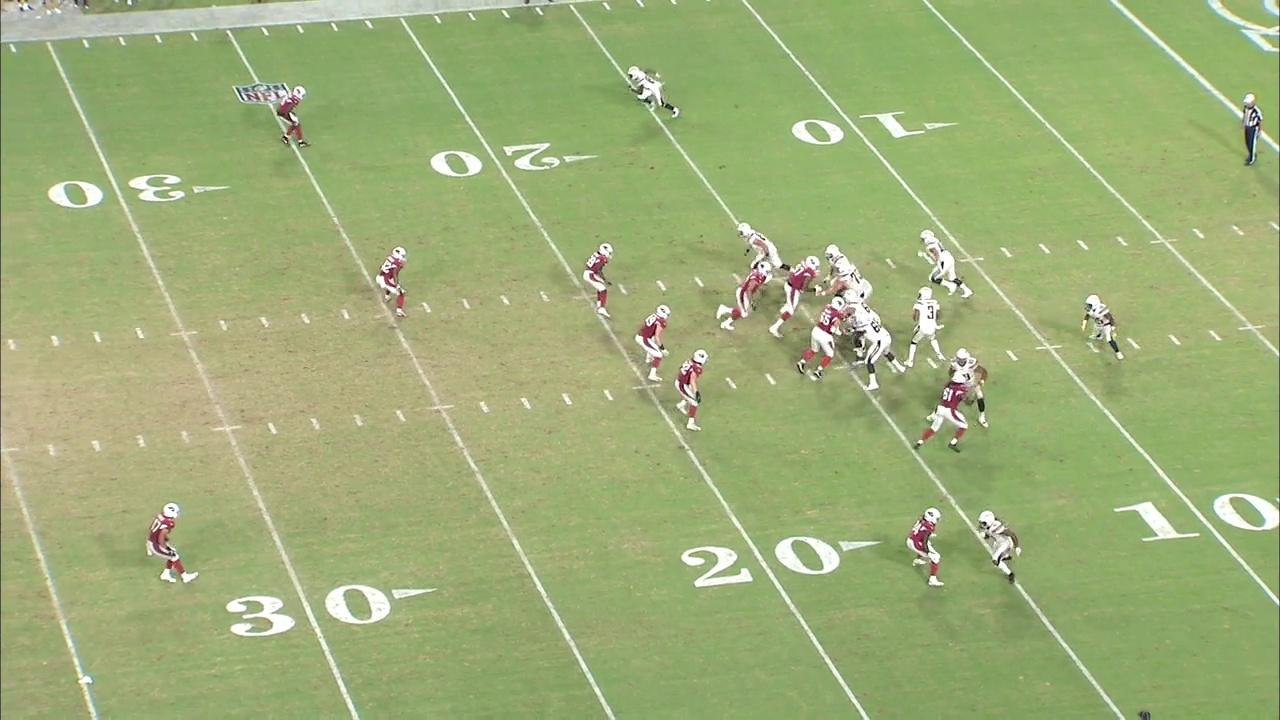five_hash: (1237, 322, 1267, 333), (168, 329, 201, 338), (211, 424, 243, 433), (426, 403, 457, 412), (1150, 237, 1181, 245), (1032, 344, 1064, 351), (958, 255, 986, 263)
hash: (261, 418, 284, 442), (1205, 325, 1224, 346), (475, 399, 495, 418), (721, 373, 740, 393), (307, 415, 326, 434), (1003, 346, 1022, 365), (690, 272, 708, 292), (88, 437, 106, 457), (1124, 334, 1142, 354), (43, 440, 60, 461), (456, 295, 474, 314), (924, 355, 943, 373), (177, 427, 194, 447), (1036, 241, 1054, 259), (1191, 226, 1209, 244), (392, 408, 410, 426), (559, 391, 577, 409), (600, 387, 618, 405), (762, 370, 780, 388), (255, 314, 274, 331), (296, 309, 315, 326), (417, 299, 436, 316), (1228, 222, 1247, 239), (89, 329, 106, 347), (132, 326, 150, 343), (496, 292, 513, 310), (882, 255, 899, 273), (998, 243, 1015, 261), (349, 413, 366, 431), (1166, 330, 1183, 348), (518, 395, 535, 412), (133, 433, 149, 451), (1074, 238, 1093, 253), (48, 334, 64, 351), (536, 288, 553, 304), (338, 307, 354, 323), (615, 281, 631, 297), (216, 318, 231, 335), (654, 278, 669, 294), (1114, 233, 1129, 249), (5, 338, 19, 353), (1269, 218, 1280, 235), (730, 272, 745, 284)
number: (214, 574, 443, 641), (672, 533, 892, 592), (1109, 489, 1280, 548), (44, 173, 235, 211), (784, 106, 961, 147), (419, 139, 602, 178)
